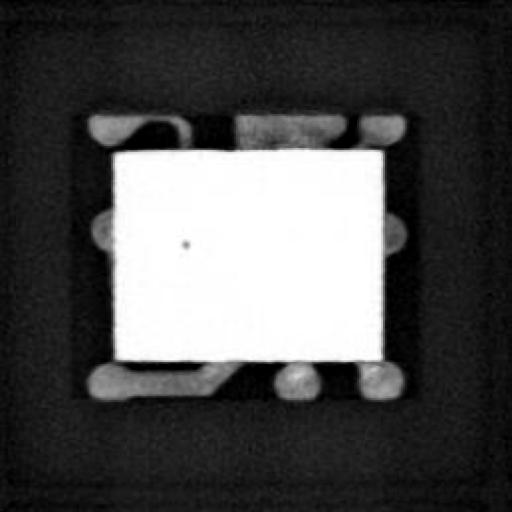DIE_INK: (176, 234, 190, 250)
